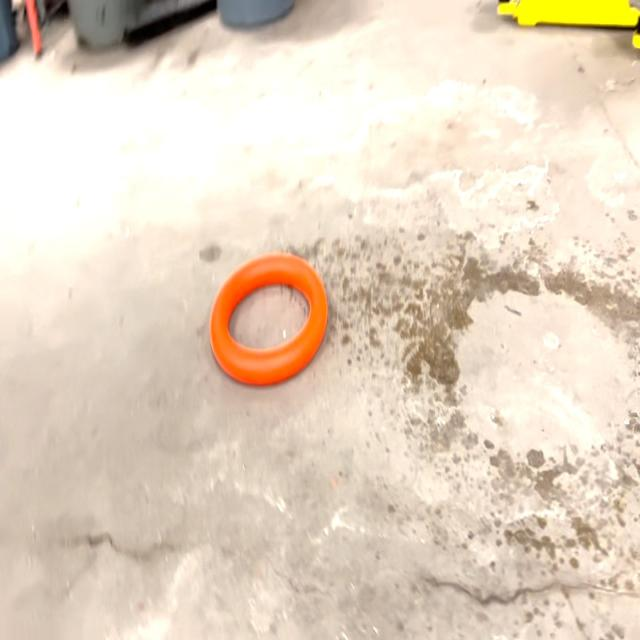note: (208, 255, 327, 388)
